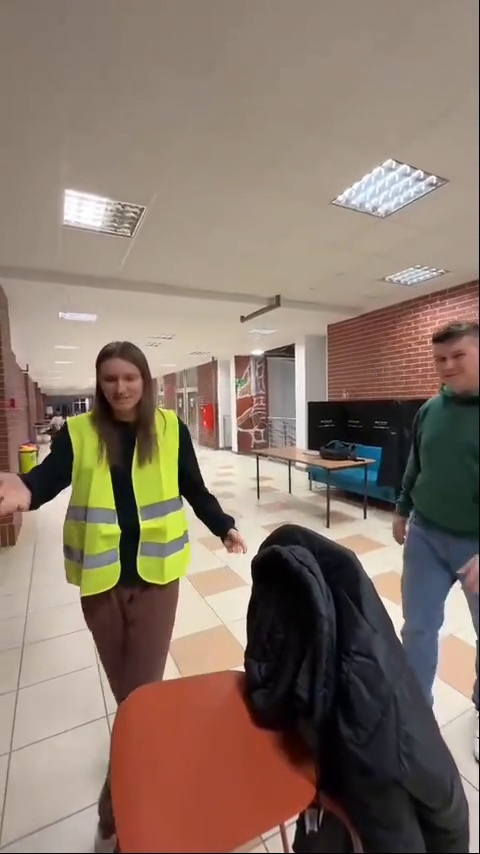no vest: (390, 316, 480, 739)
vest: (42, 335, 243, 694)
